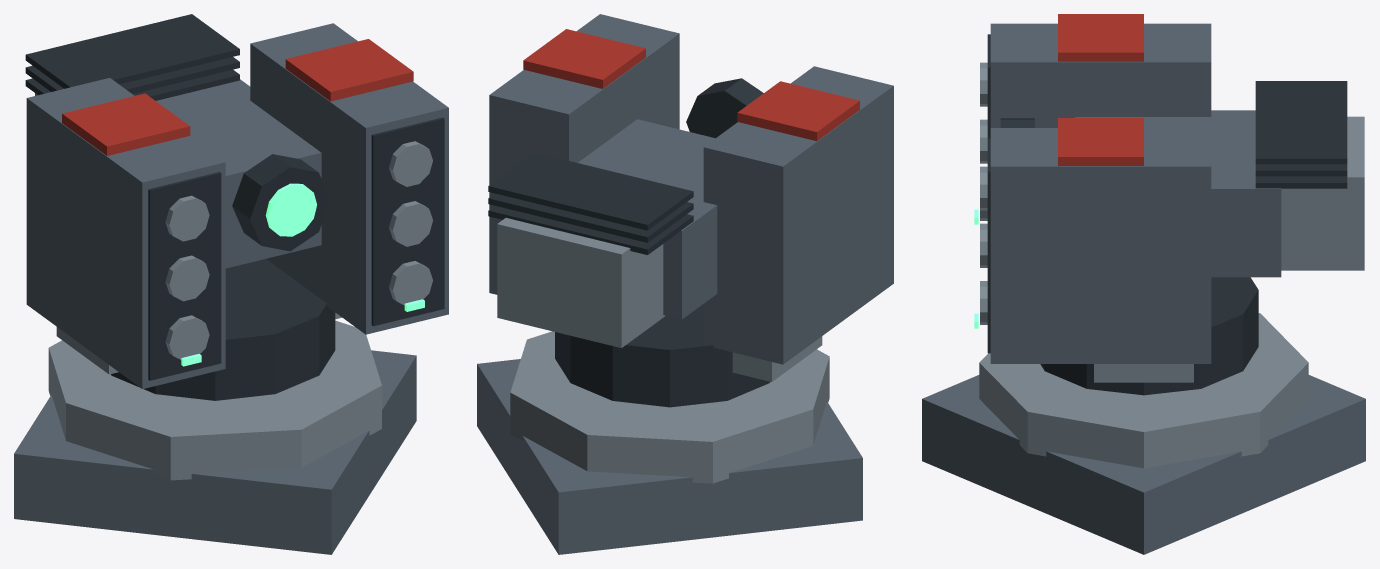
The model's file is quiver_t1_d0.glb.
The picture shows the model from 3 angles, left to right: view 1: azimuth 30°, elevation 25°; view 2: azimuth 150°, elevation 25°; view 3: azimuth 270°, elevation 25°; orthographic projection. The views are drawn at different scales.
Parts seen in each view (by area): view 1: RECOIL_ARMOR_GEOMETRY, BASE_ARMOR_GEOMETRY, YAW_ARMOR_GEOMETRY, RECOIL_SIGNAL_GEOMETRY; view 2: RECOIL_ARMOR_GEOMETRY, BASE_ARMOR_GEOMETRY, YAW_ARMOR_GEOMETRY; view 3: RECOIL_ARMOR_GEOMETRY, BASE_ARMOR_GEOMETRY, YAW_ARMOR_GEOMETRY.
Part boxes in pixels (x1,y1,x2,y2): RECOIL_ARMOR_GEOMETRY: (25, 14, 448, 388); BASE_ARMOR_GEOMETRY: (14, 320, 416, 554); YAW_ARMOR_GEOMETRY: (56, 259, 341, 400); RECOIL_SIGNAL_GEOMETRY: (181, 183, 424, 366); RECOIL_ARMOR_GEOMETRY: (488, 14, 893, 364); BASE_ARMOR_GEOMETRY: (477, 331, 862, 554); YAW_ARMOR_GEOMETRY: (555, 304, 822, 407); RECOIL_ARMOR_GEOMETRY: (980, 14, 1364, 363); BASE_ARMOR_GEOMETRY: (922, 313, 1365, 554); YAW_ARMOR_GEOMETRY: (1040, 277, 1258, 395).
Size of the model in its own units: 1.55 by 1.45 by 1.55.
